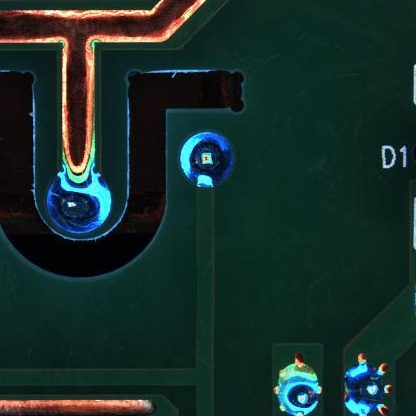spot: (44, 170, 113, 237), (341, 349, 397, 416), (177, 131, 236, 190), (274, 349, 323, 416)
